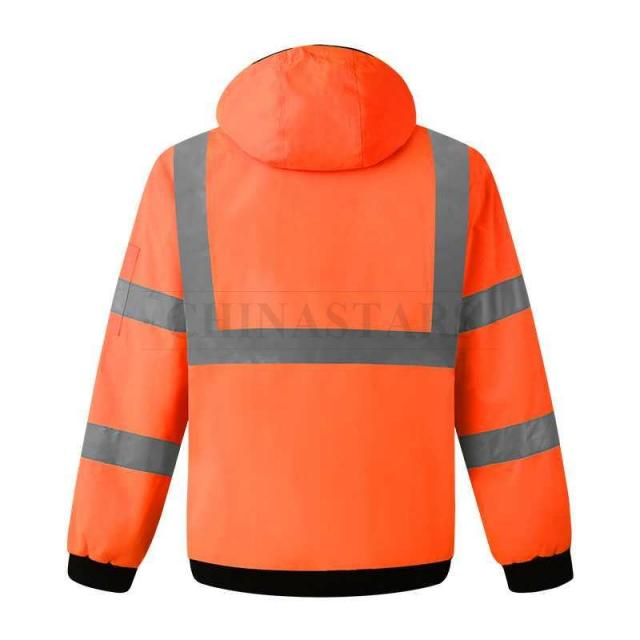Reflective-Jacket: (44, 101, 617, 627)
